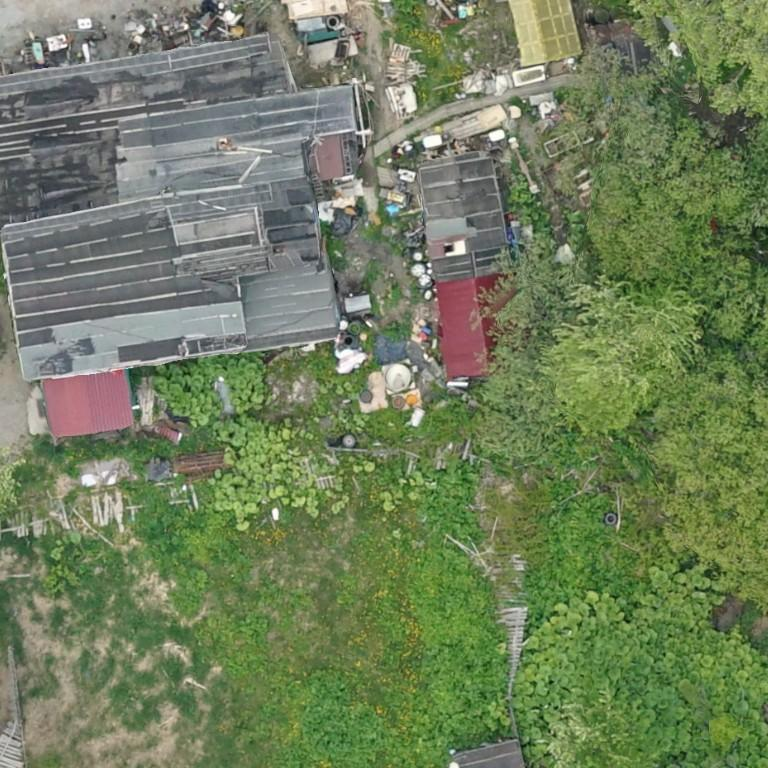hogweed: (420, 555, 505, 730), (542, 496, 635, 600), (298, 670, 387, 767), (140, 506, 237, 572), (425, 460, 485, 546), (377, 461, 404, 484), (186, 567, 207, 595)
